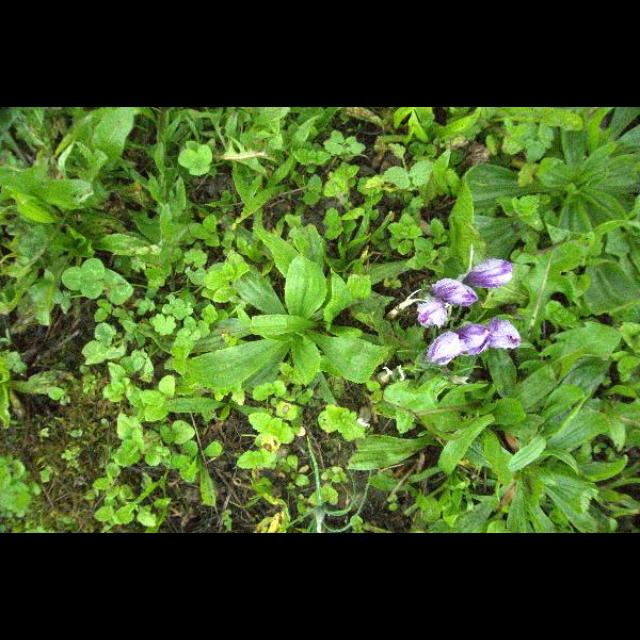flower: (429, 279, 478, 307), (468, 258, 514, 286), (417, 297, 449, 329)
overlap: (427, 318, 523, 364)
